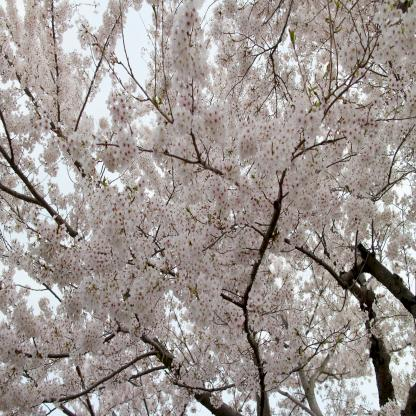Someiyoshino: (1, 2, 414, 414)
